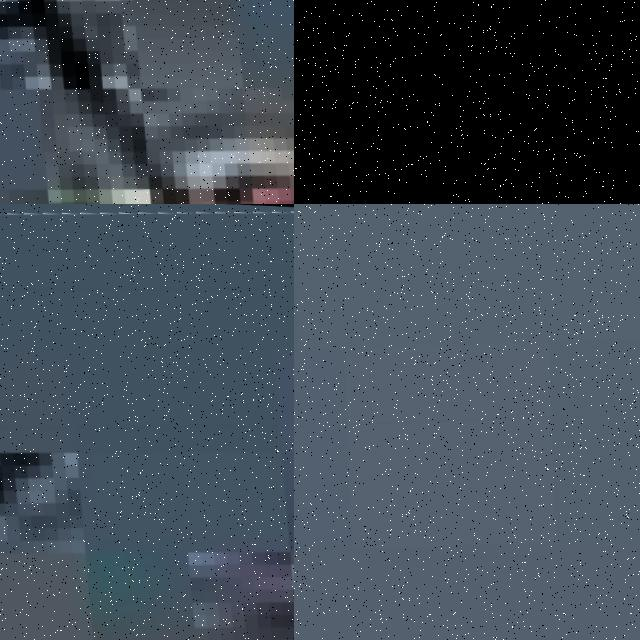drone: (0, 204, 294, 640), (0, 0, 294, 204)
